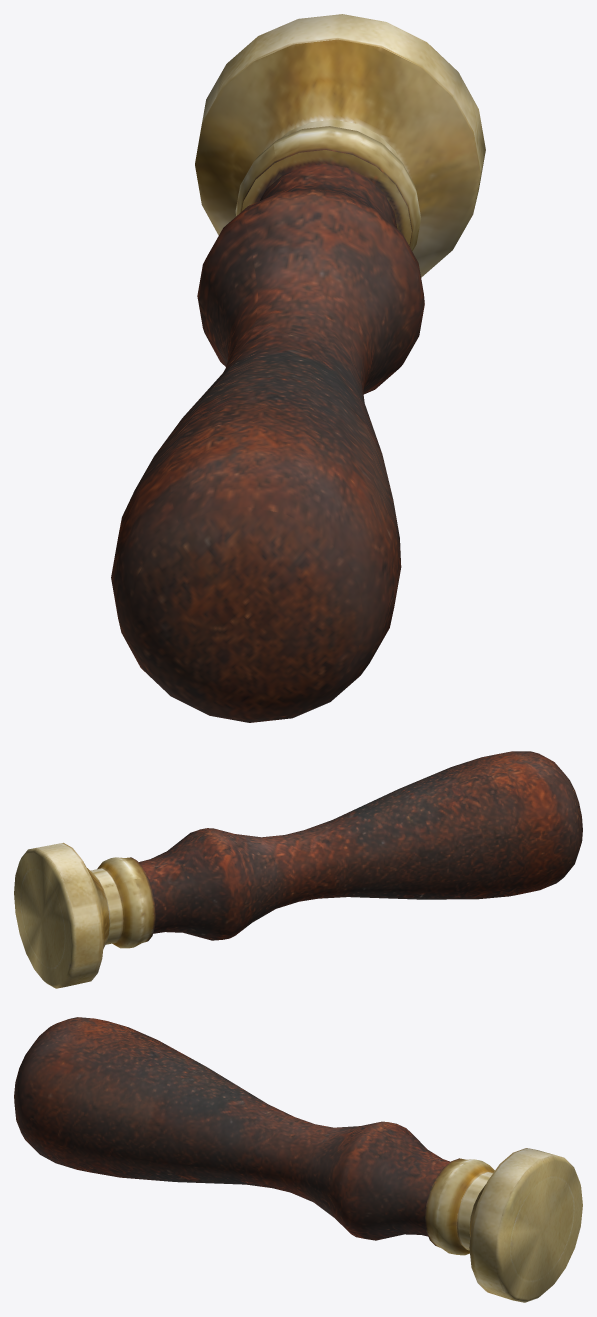
File: SealStamp.fbx
The picture shows the model from 3 angles, top to bottom: view 1: azimuth 30°, elevation 25°; view 2: azimuth 150°, elevation 25°; view 3: azimuth 270°, elevation 25°; orthographic projection. The views are drawn at different scales.
Visible parts, largest first — view 1: SealStamp_Low; view 2: SealStamp_Low; view 3: SealStamp_Low.
Part boxes in pixels (bbox=[...]): SealStamp_Low: bbox=[111, 14, 485, 722]; SealStamp_Low: bbox=[14, 751, 582, 988]; SealStamp_Low: bbox=[14, 1017, 582, 1302].
Bounding box in the file's own units: 0.3307 × 0.113 × 0.4147.
